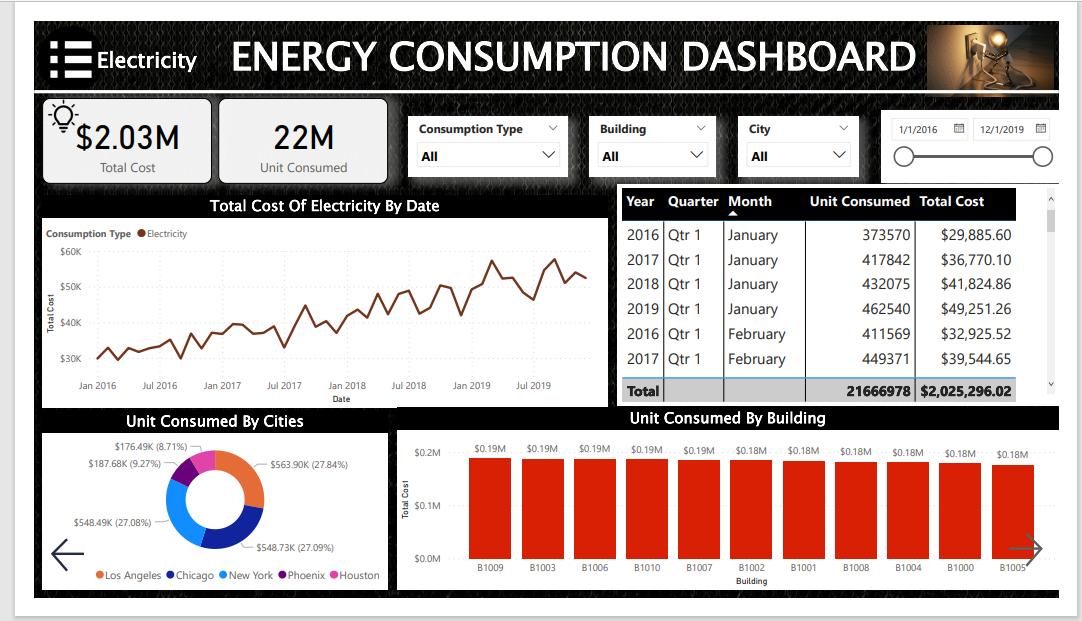

The dashboard page shown, as its layout file describes it:
{"tool":"powerbi","page":{"name":"Electricity","canvas":[1280,720],"ordinal":2},"visuals":[{"type":"card","fields":{"Values":["Energy Consumptions.Total Cost"]},"box":[9.6,96.3,212,107.4],"z":0,"group":"g1"},{"type":"image","box":[1110.3,0,169.7,99.1],"z":0},{"type":"image","box":[0,0,92.4,95.7],"z":1000},{"type":"card","fields":{"Values":["Energy Consumptions.Unit Consumed"]},"box":[229.8,96.3,212,107.4],"z":1000,"group":"g1"},{"type":"slicer","fields":{"Values":["Energy Consumptions.Consumption Type"]},"box":[467.9,119.7,198.2,74.3],"z":2000,"group":"g1"},{"type":"textbox","box":[52,24,177.3,76],"z":2000},{"type":"slicer","fields":{"Values":["Energy Consumptions.Building"]},"box":[693.6,119.7,158.3,74.3],"z":3000,"group":"g1"},{"type":"shape","box":[0,77.1,1280,22],"z":3000},{"type":"textbox","box":[154.5,3.4,1038.1,95.7],"z":4000},{"type":"slicer","fields":{"Values":["Building Master.City"]},"box":[879.4,119.7,150,74.3],"z":4000,"group":"g1"},{"type":"slicer","fields":{"Values":["Energy Consumptions.Date"]},"box":[1058.1,110.8,222,92],"z":5000,"group":"g1"},{"type":"lineChart","title":"Total Cost Of Electricity By Date","fields":{"Category":["Energy Consumptions.Date"],"Series":["Energy Consumptions.Consumption Type"],"Y":["Energy Consumptions.Total Cost"]},"box":[9.6,217.5,706.1,264.3],"z":5000},{"type":"group","id":"g1","title":"Group 1","box":[9.6,96.3,1270.4,107.4],"z":6000},{"type":"donutChart","title":"Unit Consumed By Cities","fields":{"Category":["Building Master.City"],"Y":["Energy Consumptions.Total Cost"]},"box":[9.6,485.8,432.2,224.3],"z":7000},{"type":"clusteredColumnChart","title":"Unit Consumed By Building","fields":{"Category":["Energy Consumptions.Building"],"Y":["Energy Consumptions.Total Cost"]},"box":[452.8,481.7,827.2,228.5],"z":8000},{"type":"tableEx","fields":{"Values":["Energy Consumptions.Date.Variation.Date Hierarchy.Year","Energy Consumptions.Date.Variation.Date Hierarchy.Quarter","Energy Consumptions.Date.Variation.Date Hierarchy.Month","Energy Consumptions.Unit Consumed","Energy Consumptions.Total Cost"]},"box":[729.5,203.7,550.5,276.6],"z":9000},{"type":"actionButton","box":[0,9.3,89.3,76],"z":10000},{"type":"image","box":[9.3,90.7,54.7,57.3],"z":11000},{"type":"actionButton","box":[1210.7,628,54.7,62.7],"z":12000},{"type":"actionButton","box":[16,640,54.7,53.3],"z":13000}]}

Visuals, with their boxes in screenshot pixels (x1, y1, x2, y2), scaled from the page's 1280x720 canvas onto the 1082x621 screenshot:
card - Energy Consumptions.Total Cost: Rect(8, 83, 187, 176)
image: Rect(939, 0, 1081, 85)
image: Rect(0, 0, 78, 83)
card - Energy Consumptions.Unit Consumed: Rect(194, 83, 373, 176)
slicer - Energy Consumptions.Consumption Type: Rect(396, 103, 563, 167)
textbox: Rect(44, 21, 194, 86)
slicer - Energy Consumptions.Building: Rect(586, 103, 720, 167)
shape: Rect(0, 66, 1081, 85)
textbox: Rect(131, 3, 1008, 85)
slicer - Building Master.City: Rect(743, 103, 870, 167)
slicer - Energy Consumptions.Date: Rect(894, 96, 1081, 175)
"Total Cost Of Electricity By Date" lineChart: Rect(8, 188, 605, 416)
"Group 1" group: Rect(8, 83, 1081, 176)
"Unit Consumed By Cities" donutChart: Rect(8, 419, 373, 612)
"Unit Consumed By Building" clusteredColumnChart: Rect(383, 415, 1081, 613)
tableEx - Energy Consumptions.Date.Variation.Date Hierarchy.Year x Energy Consumptions.Date.Variation.Date Hierarchy.Quarter: Rect(617, 176, 1081, 414)
actionButton: Rect(0, 8, 75, 74)
image: Rect(8, 78, 54, 128)
actionButton: Rect(1023, 542, 1070, 596)
actionButton: Rect(14, 552, 60, 598)
